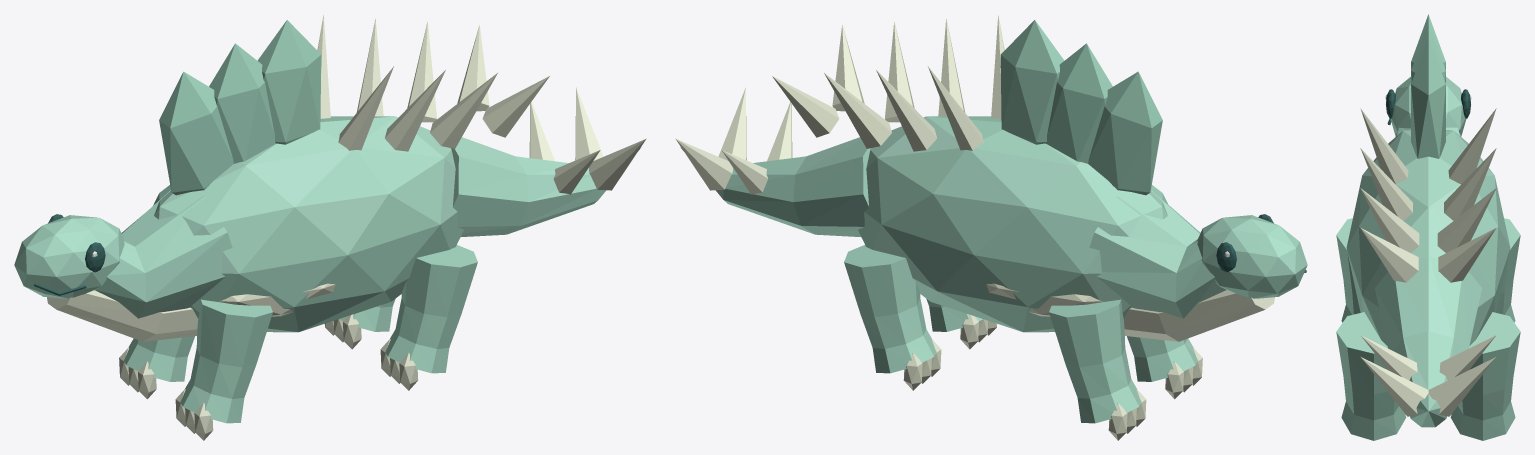
The model's file is kentrosaurus.glb.
3 views of the same model, side by side, from view 1: azimuth 30°, elevation 25°; view 2: azimuth 150°, elevation 25°; view 3: azimuth 270°, elevation 25° (orthographic). The views are drawn at different scales.
Visible parts, largest first — view 1: Body, Neck, Tail, Rounded leg, Rounded leg.002, Head, Dorsal plate, Dorsal plate.002, Dorsal plate.001, Cream throat, Rounded leg.001, Spinal spike.004 (+13 smaller); view 2: Body, Tail, Neck, Rounded leg.001, Rounded leg.003, Head, Dorsal plate, Dorsal plate.002, Dorsal plate.001, Cream throat, Rounded leg, Spinal spike.005 (+13 smaller); view 3: Body, Tail, Rounded leg.002, Rounded leg.003, Dorsal plate.002, Head, Tail spike.002, Tail spike.003, Spinal spike.004, Spinal spike.005, Spinal spike.006, Spinal spike.007 (+12 smaller).
Boxes of the visible parts, left/top/right/bottom form: Body: left=153, top=116, right=463, bottom=332; Neck: left=95, top=190, right=232, bottom=318; Tail: left=451, top=137, right=641, bottom=236; Rounded leg: left=180, top=299, right=272, bottom=423; Rounded leg.002: left=385, top=245, right=477, bottom=373; Head: left=14, top=215, right=124, bottom=298; Dorsal plate: left=159, top=71, right=233, bottom=195; Dorsal plate.002: left=257, top=20, right=321, bottom=144; Dorsal plate.001: left=209, top=43, right=275, bottom=163; Cream throat: left=47, top=290, right=198, bottom=341; Rounded leg.001: left=124, top=336, right=194, bottom=381; Spinal spike.004: left=430, top=73, right=497, bottom=148; Body: left=858, top=116, right=1167, bottom=332; Tail: left=680, top=137, right=870, bottom=236; Neck: left=1089, top=190, right=1226, bottom=318; Rounded leg.001: left=1049, top=299, right=1141, bottom=423; Rounded leg.003: left=844, top=245, right=936, bottom=373; Head: left=1197, top=215, right=1307, bottom=298; Dorsal plate: left=1088, top=71, right=1162, bottom=195; Dorsal plate.002: left=1000, top=20, right=1064, bottom=144; Dorsal plate.001: left=1046, top=43, right=1112, bottom=163; Cream throat: left=1123, top=290, right=1274, bottom=341; Rounded leg: left=1127, top=336, right=1197, bottom=381; Spinal spike.005: left=824, top=73, right=891, bottom=148; Body: left=1346, top=130, right=1510, bottom=345; Tail: left=1374, top=256, right=1482, bottom=427; Rounded leg.002: left=1336, top=312, right=1406, bottom=440; Rounded leg.003: left=1450, top=312, right=1520, bottom=440; Dorsal plate.002: left=1411, top=37, right=1445, bottom=158; Head: left=1390, top=77, right=1466, bottom=135; Tail spike.002: left=1361, top=357, right=1428, bottom=416; Tail spike.003: left=1428, top=357, right=1495, bottom=416; Spinal spike.004: left=1360, top=188, right=1419, bottom=252; Spinal spike.005: left=1437, top=188, right=1496, bottom=252; Spinal spike.006: left=1360, top=228, right=1418, bottom=282; Spinal spike.007: left=1438, top=228, right=1496, bottom=282.
Size of the model in its own units: 4.06 by 2.28 by 1.08.
